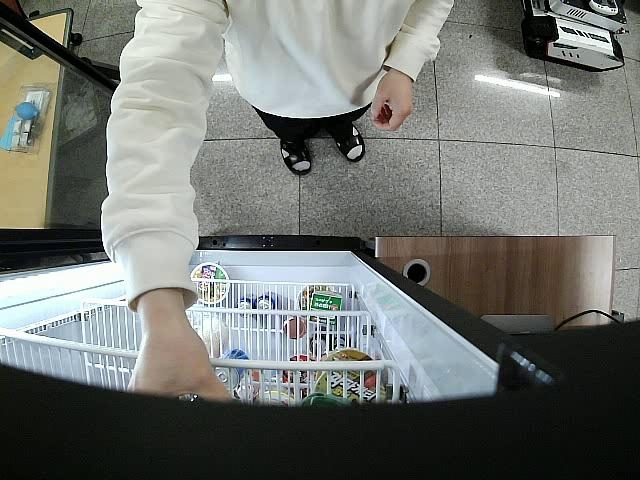00_hand: (370, 69, 414, 133)
